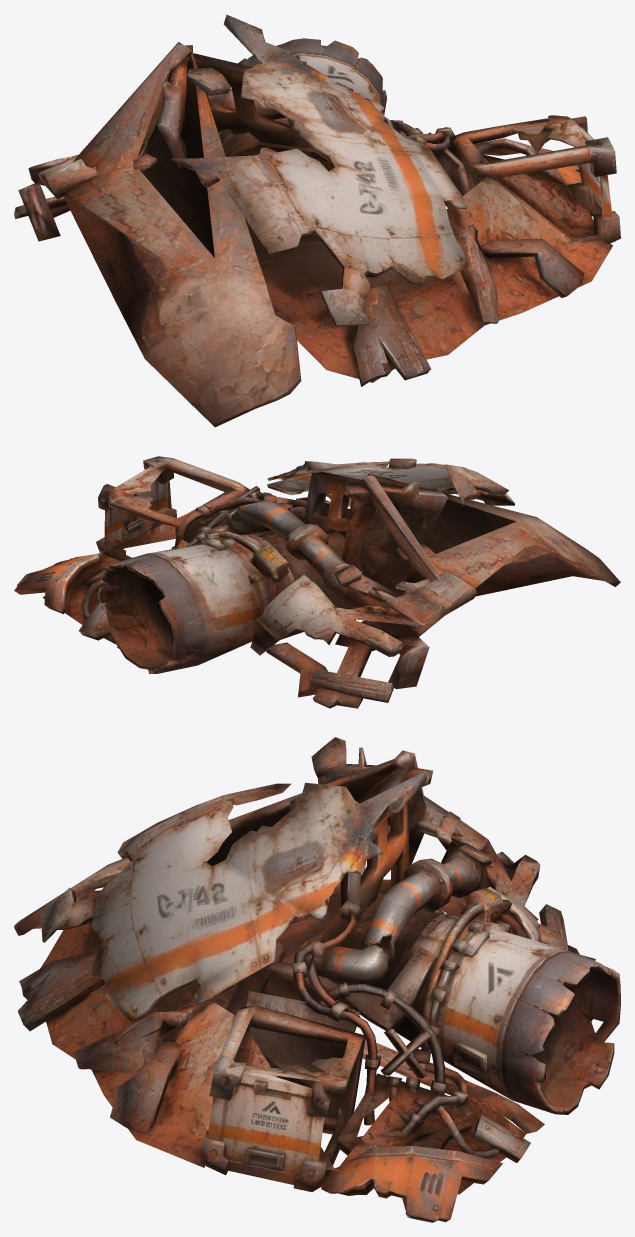
The model's file is schrotthaufen_01.glb.
3 renders of one model, top to bottom at view 1: azimuth 30°, elevation 25°; view 2: azimuth 150°, elevation 25°; view 3: azimuth 270°, elevation 25°, orthographic. The views are drawn at different scales.
Parts seen in each view (by area): view 1: schrotthaufen_01; view 2: schrotthaufen_01; view 3: schrotthaufen_01.
Part boxes in pixels (left/top/right/bottom): schrotthaufen_01: left=14, top=14, right=620, bottom=427; schrotthaufen_01: left=14, top=456, right=620, bottom=708; schrotthaufen_01: left=14, top=737, right=620, bottom=1222.
Size of the model in its own units: 3 by 1.2 by 2.5.
1 material, 1 textured.
